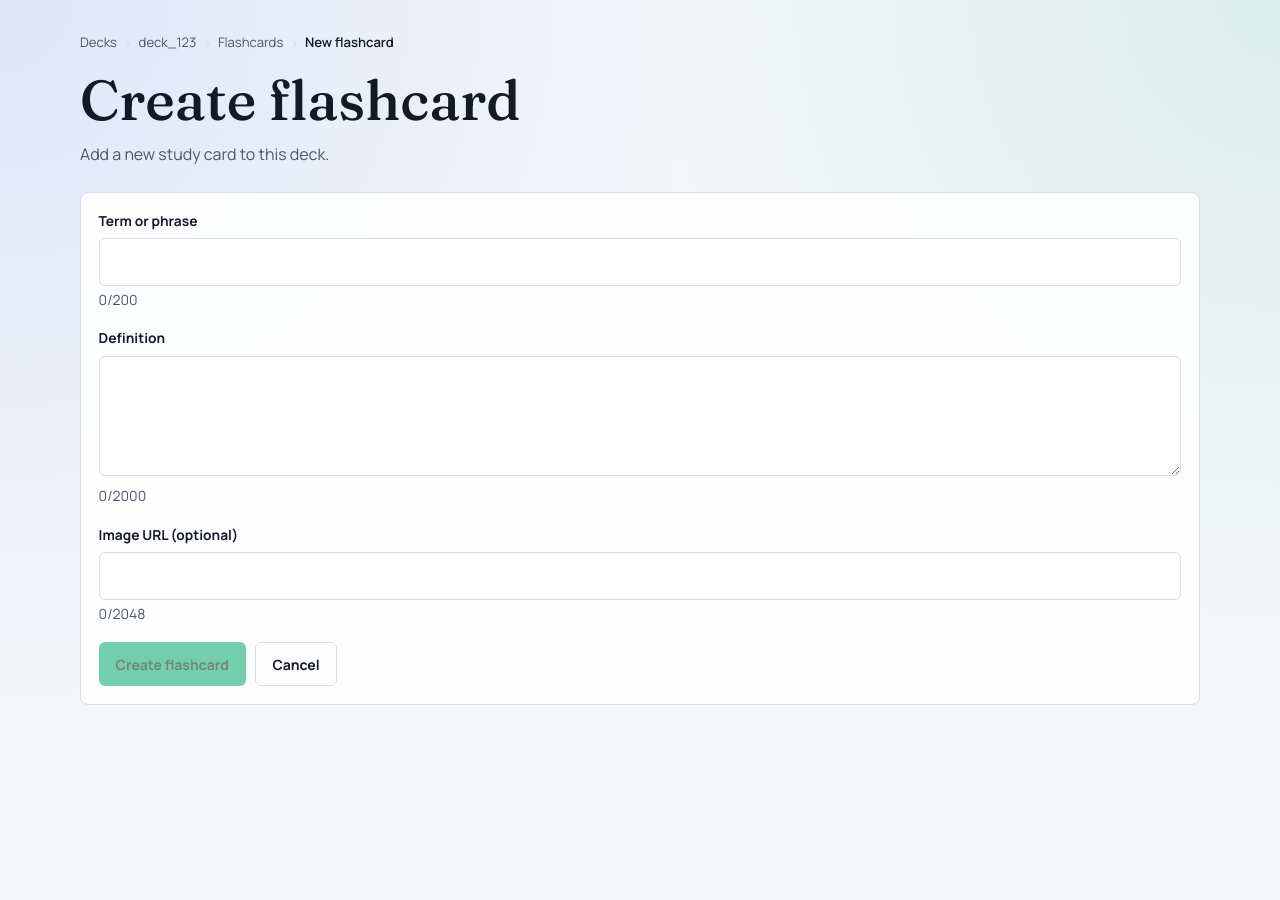
Test case: flashcard routes › shows contract validation errors on create
Type "hola" into the field labelled "Term or phrase" at (640, 262), box x1=99 y1=238 x2=1181 y2=286
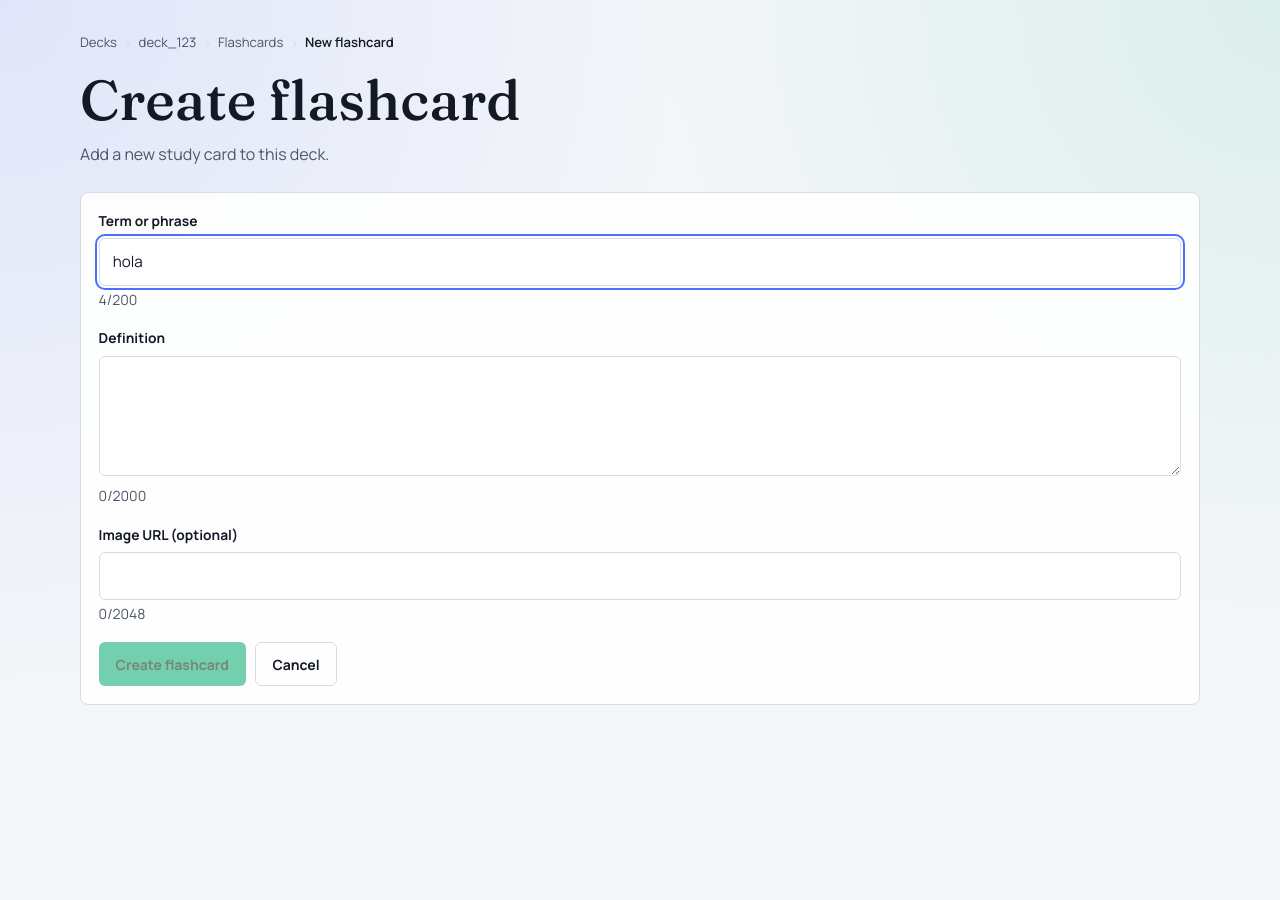
Type "hello" into the text box labelled "Definition" at (640, 416), box x1=99 y1=356 x2=1181 y2=476
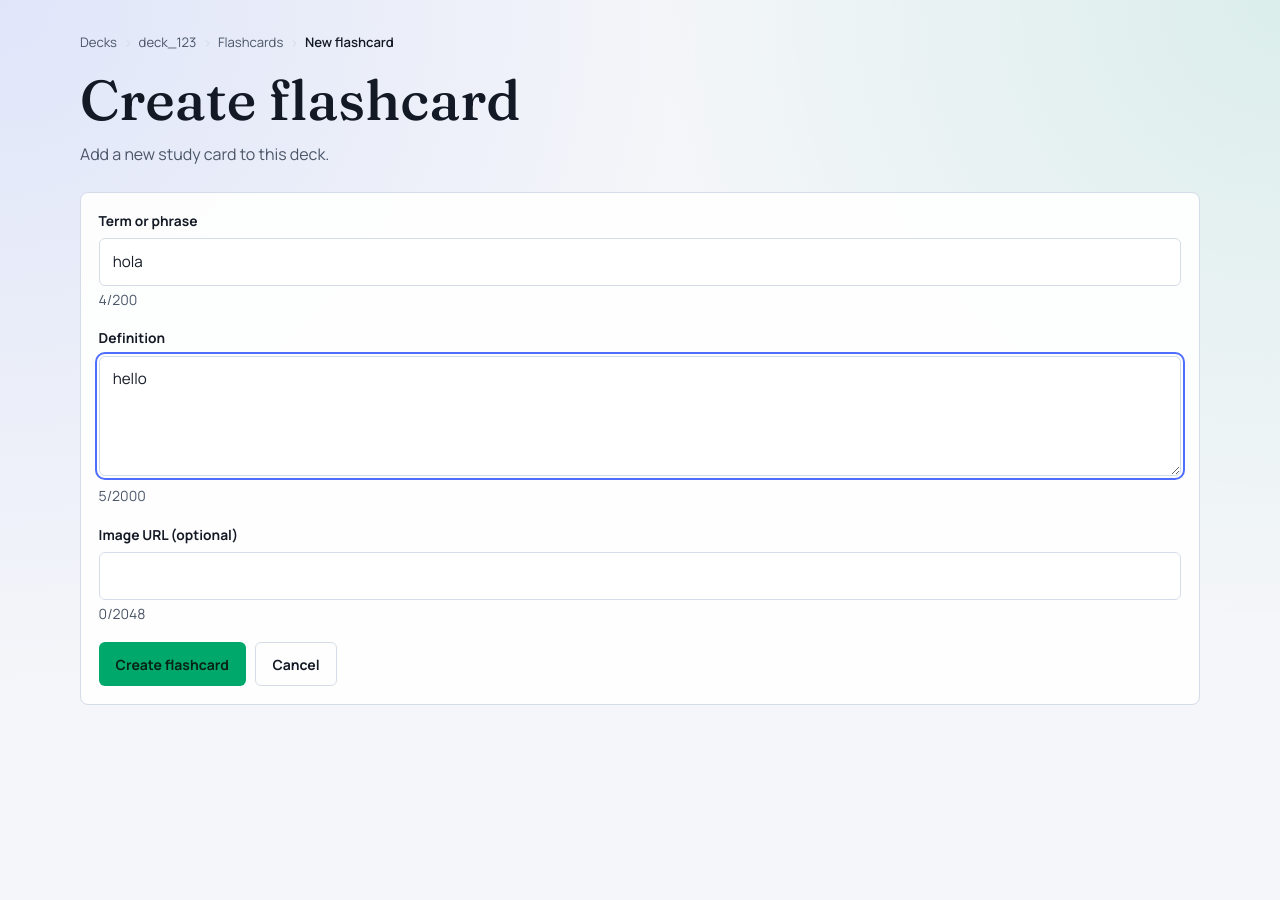
Click the button "Create flashcard" at (172, 664), box x1=99 y1=642 x2=246 y2=686
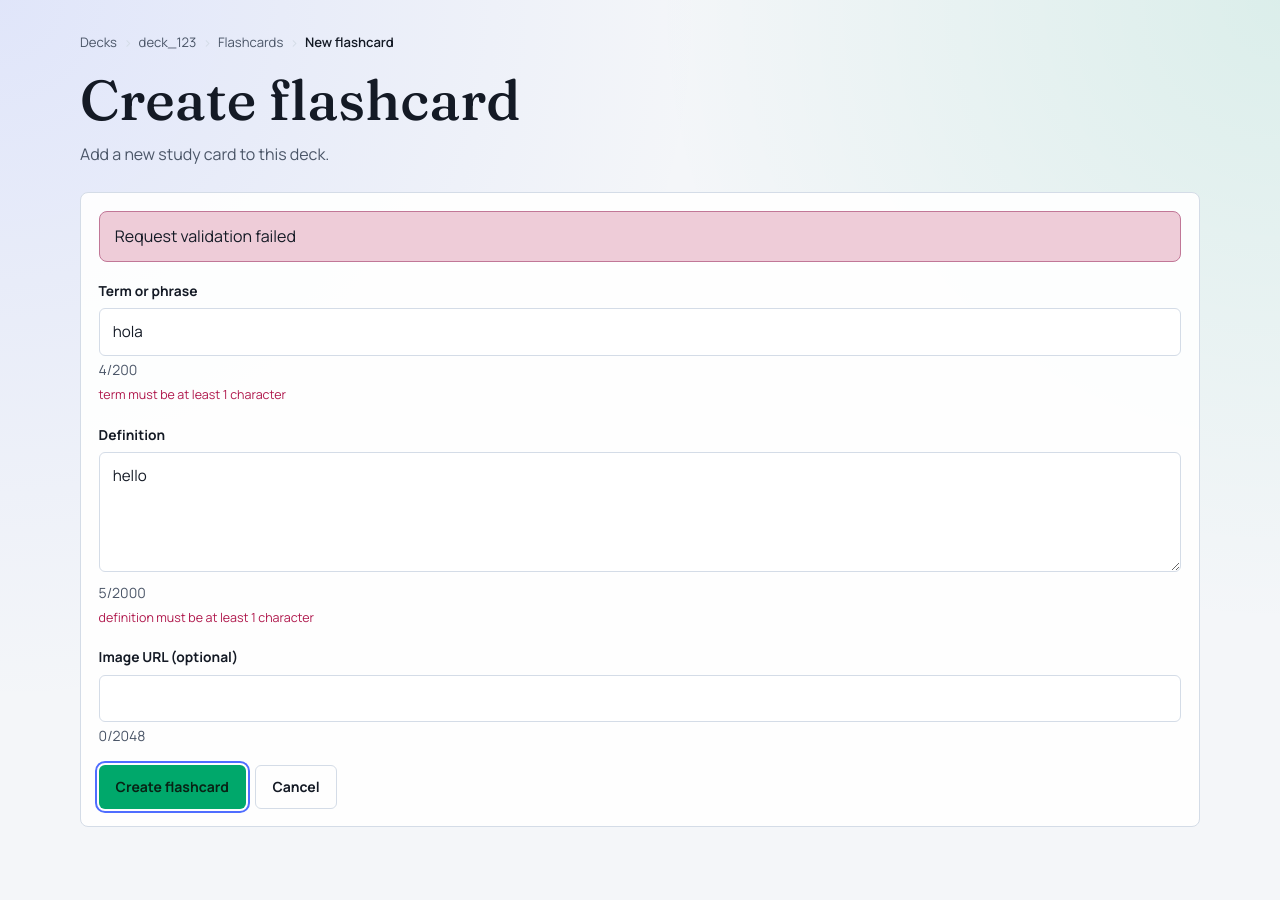
Expected: the text "Request validation failed" is shown, x1=99 y1=211 x2=1181 y2=262
Expected: the text "term must be at least 1 character" is shown, x1=99 y1=386 x2=286 y2=403
Expected: the text "definition must be at least 1 character" is shown, x1=99 y1=609 x2=314 y2=626
